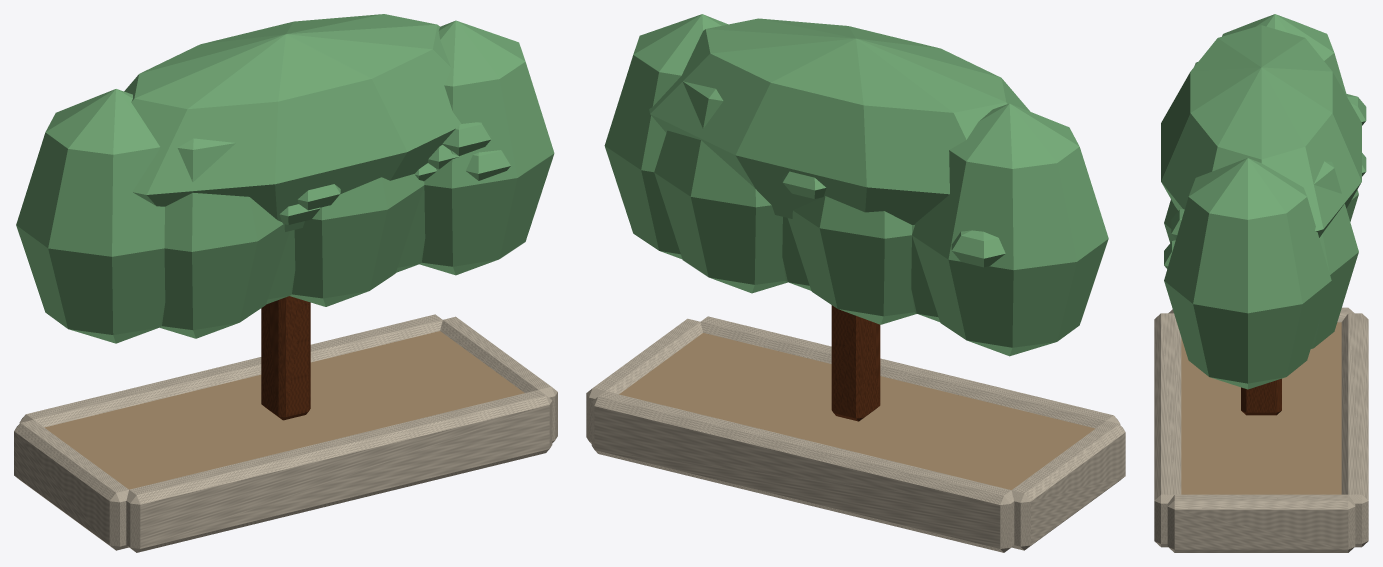
File: fantasy-mmo-city-and-townsfolk-clipped-hedge-block-ea0b52b0.glb
3 renders of one model, left to right at view 1: azimuth 30°, elevation 25°; view 2: azimuth 150°, elevation 25°; view 3: azimuth 270°, elevation 25°, orthographic. The views are drawn at different scales.
Parts seen in each view (by area): view 1: clipped-hedge-block; view 2: clipped-hedge-block; view 3: clipped-hedge-block.
Boxes of the visible parts, x1=… form: clipped-hedge-block: x1=14, y1=14, x2=557, y2=552; clipped-hedge-block: x1=586, y1=14, x2=1125, y2=552; clipped-hedge-block: x1=1154, y1=14, x2=1368, y2=552.
Bounding box in the file's own units: 3.07 × 2.52 × 1.26.
4 materials, 2 textured.
